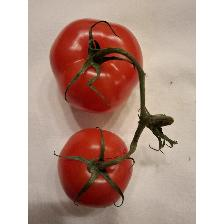Tomate: (48, 16, 180, 212)
